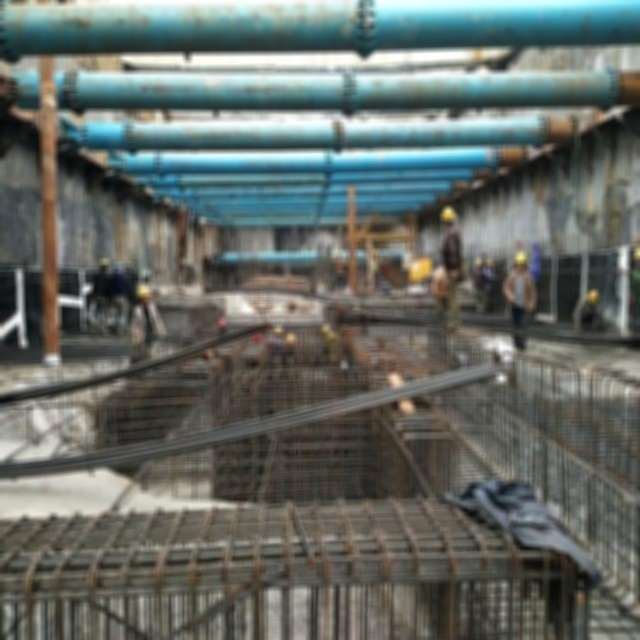Con_Casco: (442, 207, 455, 225), (514, 252, 525, 268)
Sin_Chaleco: (441, 228, 463, 266), (136, 303, 158, 339), (510, 270, 531, 306)
